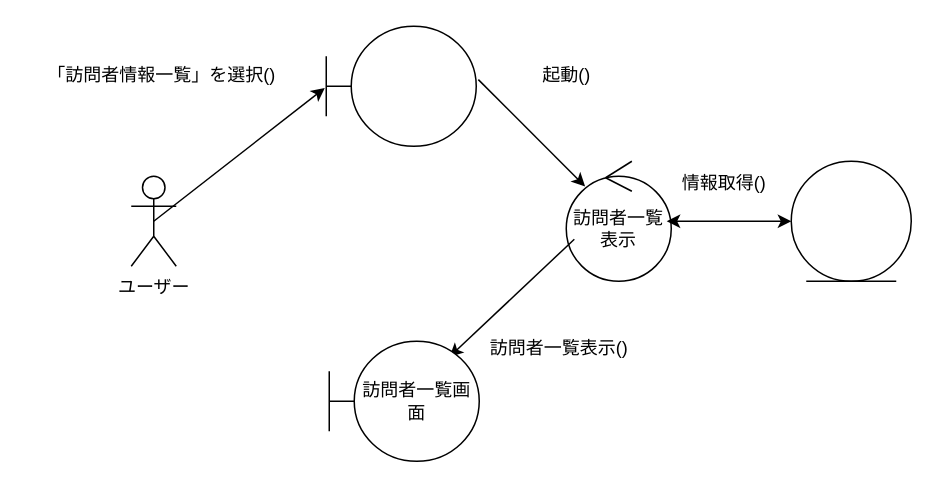
Some shapes in this 938 by 488 pixel diagram are drawn without their labels. The centre of each missing label's shape, as x and y in pixels:
"訪問者オブジェクト" goes at point (850, 220).
"訪問者システムメニュー画面" goes at point (400, 85).
